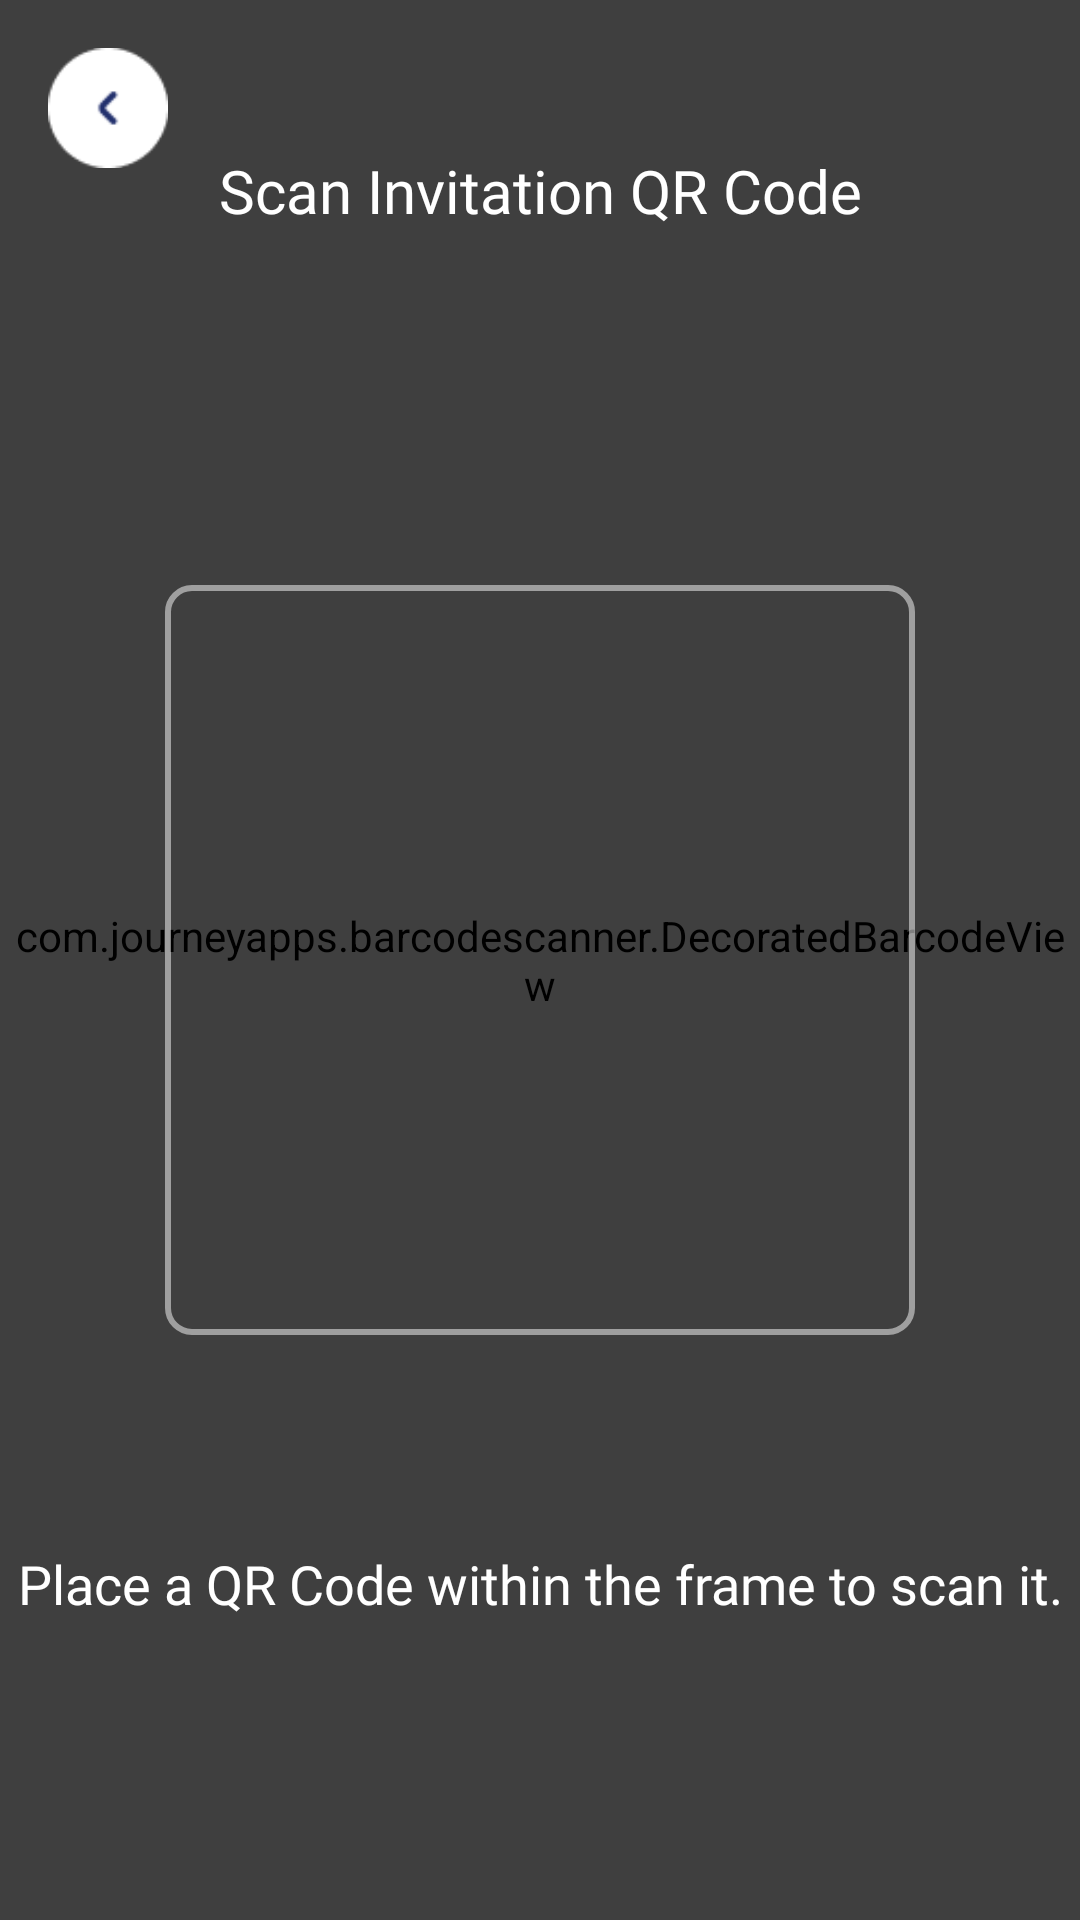

Icon click points for this 1080px x 1920px phone screenshot, format (x,y):
Back: (108,108)
